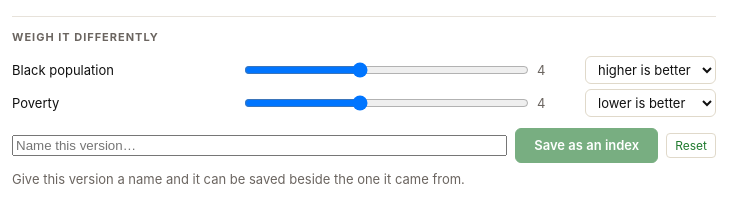
Test case: why it will not save yet (P9-6a) › names the missing name
Expected: the message with test id "weight-save-why" shows "Give this version a name", [12,171,465,187]
Type "Housing-weighted" into the field with test id "weight-name" at (260, 146), box [12,135,507,156]
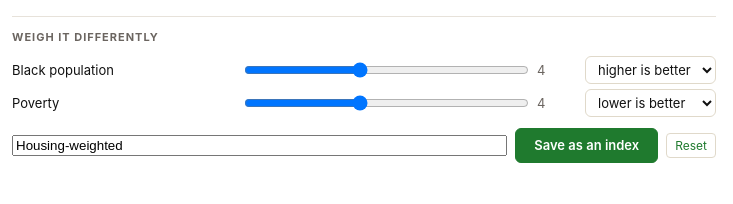
Expected: the button with test id "weight-save" is enabled, [515,128,658,163]
